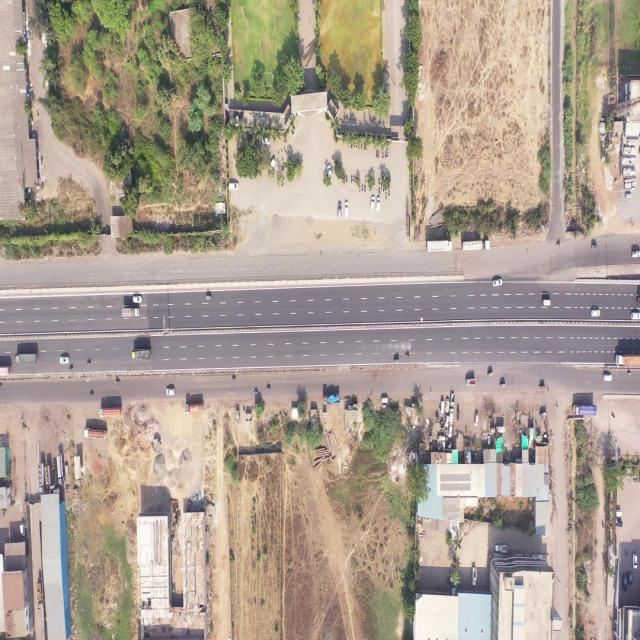3W: (495, 425, 505, 434), (540, 411, 547, 419), (591, 243, 598, 250), (206, 295, 212, 301), (539, 384, 545, 390), (500, 382, 506, 388), (488, 371, 493, 377), (394, 358, 399, 363)
Cars: (632, 552, 638, 570), (327, 164, 333, 180), (622, 574, 627, 592), (631, 312, 640, 321), (603, 373, 612, 382), (166, 387, 175, 396), (493, 278, 503, 286), (591, 309, 601, 317), (448, 422, 453, 438), (370, 195, 375, 210), (344, 200, 348, 218), (20, 524, 26, 536), (376, 197, 381, 211), (229, 183, 239, 190), (60, 357, 70, 364), (338, 202, 342, 219), (449, 409, 454, 422), (133, 296, 142, 303), (445, 398, 449, 413), (440, 400, 444, 415), (616, 519, 622, 529), (628, 572, 632, 586), (474, 413, 478, 426), (616, 510, 622, 518), (381, 397, 388, 403)
LCV: (494, 544, 508, 553), (466, 378, 476, 388), (472, 567, 477, 586), (542, 298, 551, 308), (450, 392, 455, 408), (631, 250, 640, 257)
M2W: (253, 389, 260, 395), (378, 186, 381, 195), (358, 185, 361, 194), (266, 385, 271, 390), (364, 183, 366, 193), (350, 174, 352, 184), (115, 380, 120, 384), (232, 378, 237, 382), (388, 188, 390, 197), (385, 191, 387, 200), (378, 176, 380, 185), (362, 183, 364, 192), (352, 174, 354, 183), (346, 174, 348, 183), (385, 150, 387, 159), (382, 151, 384, 160), (364, 142, 366, 151), (364, 175, 366, 183), (378, 150, 380, 158), (356, 142, 358, 150), (557, 242, 561, 246), (90, 392, 94, 396), (628, 372, 632, 376), (88, 360, 91, 365), (405, 354, 410, 357), (386, 152, 388, 159), (360, 143, 362, 150), (70, 367, 74, 370), (111, 402, 114, 406), (377, 149, 378, 158)
MAV: (56, 452, 66, 485), (84, 426, 106, 441), (615, 354, 640, 367), (426, 240, 452, 252), (462, 240, 490, 251), (100, 407, 122, 418), (38, 462, 45, 494), (185, 402, 204, 413), (36, 582, 43, 610), (0, 365, 12, 374)
Truck: (573, 404, 597, 416), (15, 353, 38, 364), (132, 349, 151, 360), (323, 393, 340, 405), (121, 308, 140, 318)
